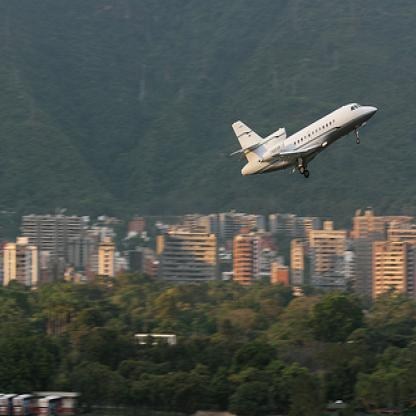aeroplane: (228, 101, 377, 179)
